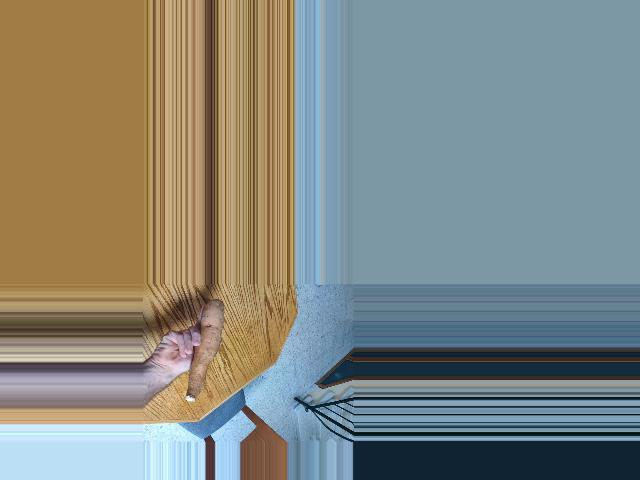sweet_potato: (181, 300, 228, 402)
